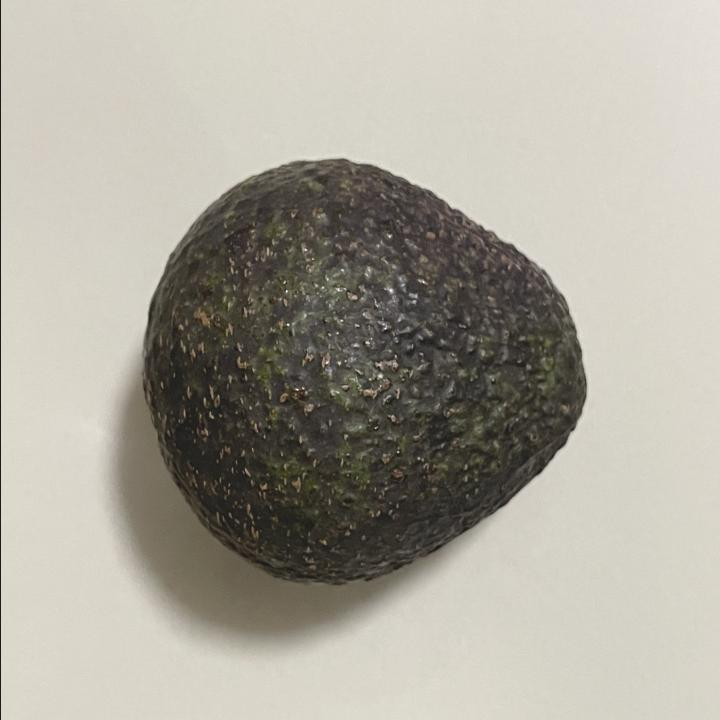Level2: (139, 151, 593, 596)
